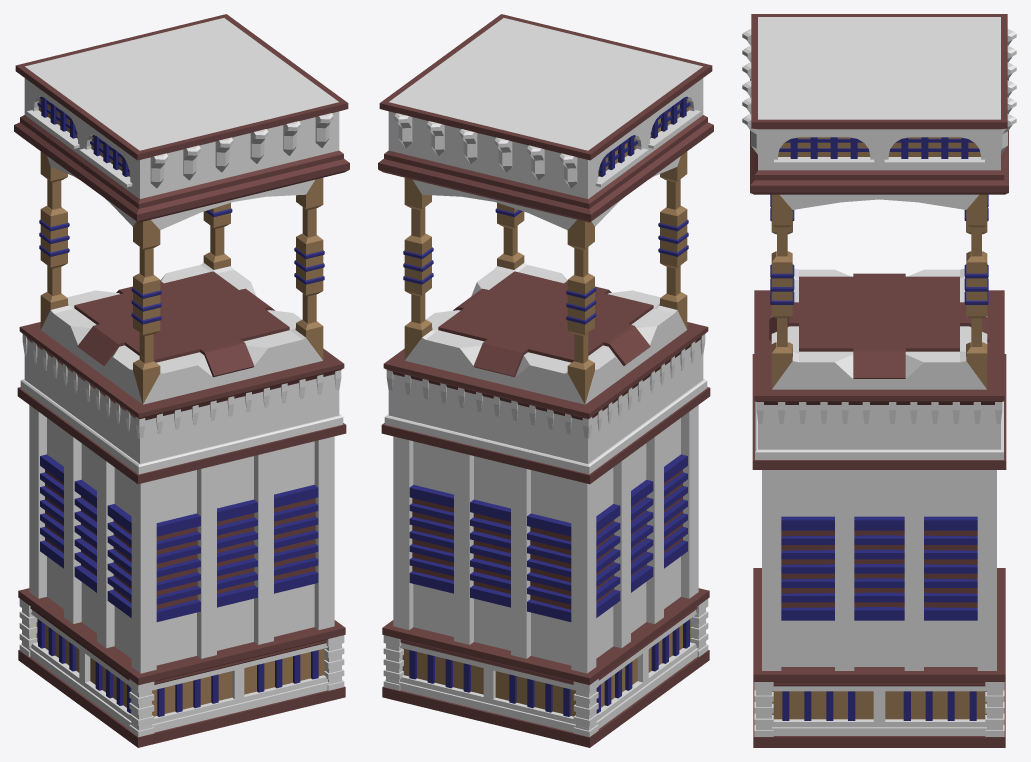
File: floor6.fbx
3 renders of one model, left to right at view 1: azimuth 30°, elevation 25°; view 2: azimuth 150°, elevation 25°; view 3: azimuth 270°, elevation 25°, orthographic. The views are drawn at different scales.
Parts seen in each view (by area): view 1: floor6.4, floor6.3, floor6.1, floor6.1Decor, floor6.2, floor6.0, floor6.0Decor, floor6.4Decor, floor6.2Decor; view 2: floor6.4, floor6.3, floor6.1, floor6.1Decor, floor6.2, floor6.0, floor6.0Decor, floor6.4Decor, floor6.2Decor; view 3: floor6.4, floor6.1, floor6.3, floor6.2, floor6.0, floor6.1Decor, floor6.0Decor, floor6.2Decor, floor6.4Decor.
Boxes of the visible parts, x1,y1,x2,y2 form: floor6.4: (14,14,349,222); floor6.3: (39,151,324,404); floor6.1: (40,418,318,665); floor6.1Decor: (29,405,334,673); floor6.2: (17,322,346,484); floor6.0: (18,588,345,747); floor6.0Decor: (19,598,344,737); floor6.4Decor: (150,113,333,188); floor6.2Decor: (22,334,341,438); floor6.4: (378,14,713,222); floor6.3: (403,151,688,404); floor6.1: (409,418,687,665); floor6.1Decor: (393,405,698,673); floor6.2: (381,322,710,484); floor6.0: (382,588,709,747); floor6.0Decor: (383,598,708,737); floor6.4Decor: (394,113,577,188); floor6.2Decor: (386,334,705,438); floor6.4: (750,14,1008,194); floor6.1: (781,470,977,666); floor6.3: (769,194,989,389); floor6.2: (752,290,1006,469); floor6.0: (753,568,1005,747); floor6.1Decor: (762,470,996,670); floor6.0Decor: (754,682,1004,736); floor6.2Decor: (756,402,1002,423); floor6.4Decor: (742,29,1016,154).
Size of the model in its own units: 213 by 569 by 226.
